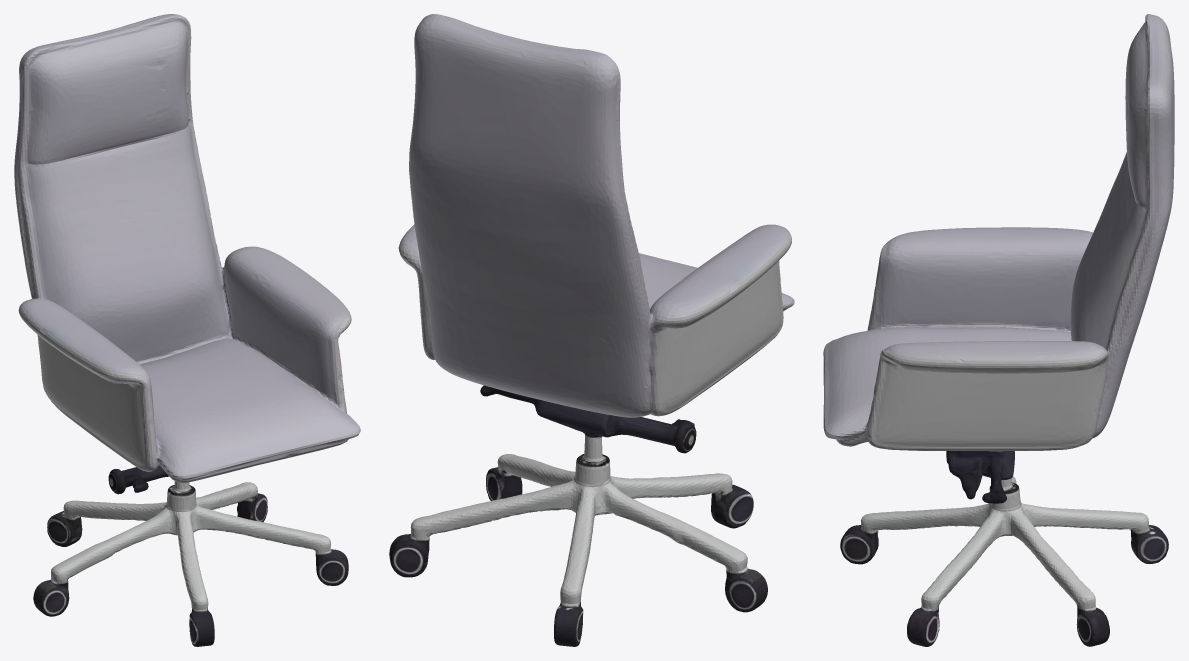
The model's file is 02_班椅_独立办公室.glb.
The picture shows the model from 3 angles, left to right: view 1: azimuth 30°, elevation 25°; view 2: azimuth 150°, elevation 25°; view 3: azimuth 270°, elevation 25°; orthographic projection. The views are drawn at different scales.
Visible parts, largest first — view 1: textured_mesh.obj; view 2: textured_mesh.obj; view 3: textured_mesh.obj.
Boxes of the visible parts, x1,y1,x2,y2 form: textured_mesh.obj: [14, 14, 360, 646]; textured_mesh.obj: [389, 14, 794, 646]; textured_mesh.obj: [823, 14, 1174, 646].
Bounding box in the file's own units: 0.6864 × 1.2 × 0.719.
Materials: 1 (1 with a texture image).
